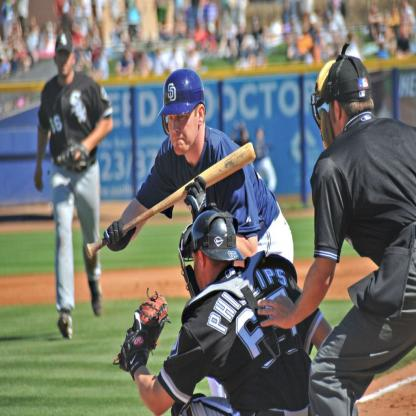Helmet: (310, 43, 372, 149), (182, 209, 244, 294), (158, 69, 204, 133)
